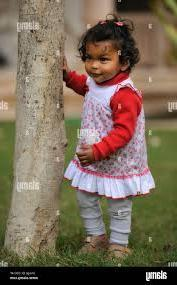Human: (64, 19, 141, 263)
